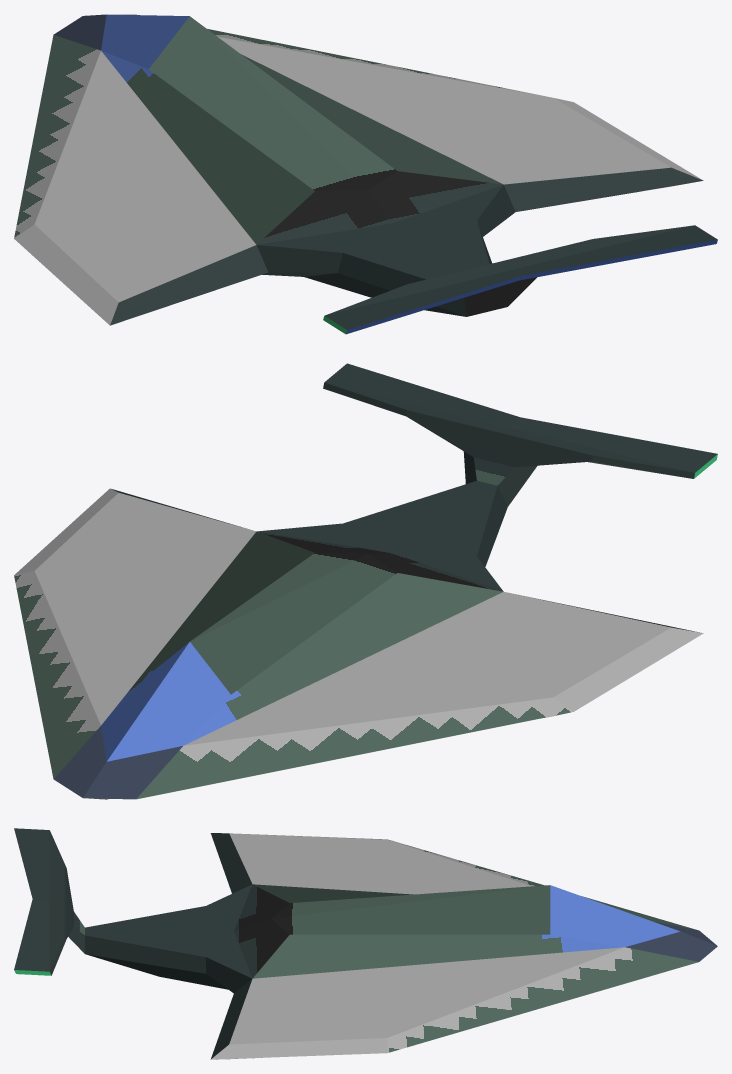
Rendered from dropship.gltf.
3 renders of one model, top to bottom at view 1: azimuth 30°, elevation 25°; view 2: azimuth 150°, elevation 25°; view 3: azimuth 270°, elevation 25°, orthographic. The views are drawn at different scales.
Parts seen in each view (by area): view 1: cuboid; view 2: cuboid; view 3: cuboid.
Part boxes in pixels (x1,y1,x2,y2): cuboid: (14,14,717,334); cuboid: (14,363,717,799); cuboid: (14,828,717,1059).
Size of the model in its own units: 1.8 by 0.3125 by 2.36.
1 material, 1 textured.
